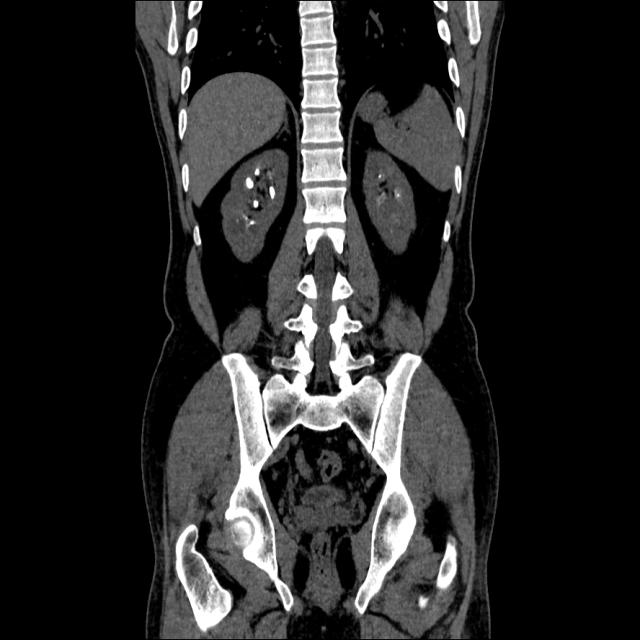kidneystone: (245, 176, 254, 188), (269, 185, 275, 198), (395, 187, 401, 198), (254, 167, 260, 176), (254, 199, 259, 208), (376, 173, 382, 179), (249, 219, 251, 225)
